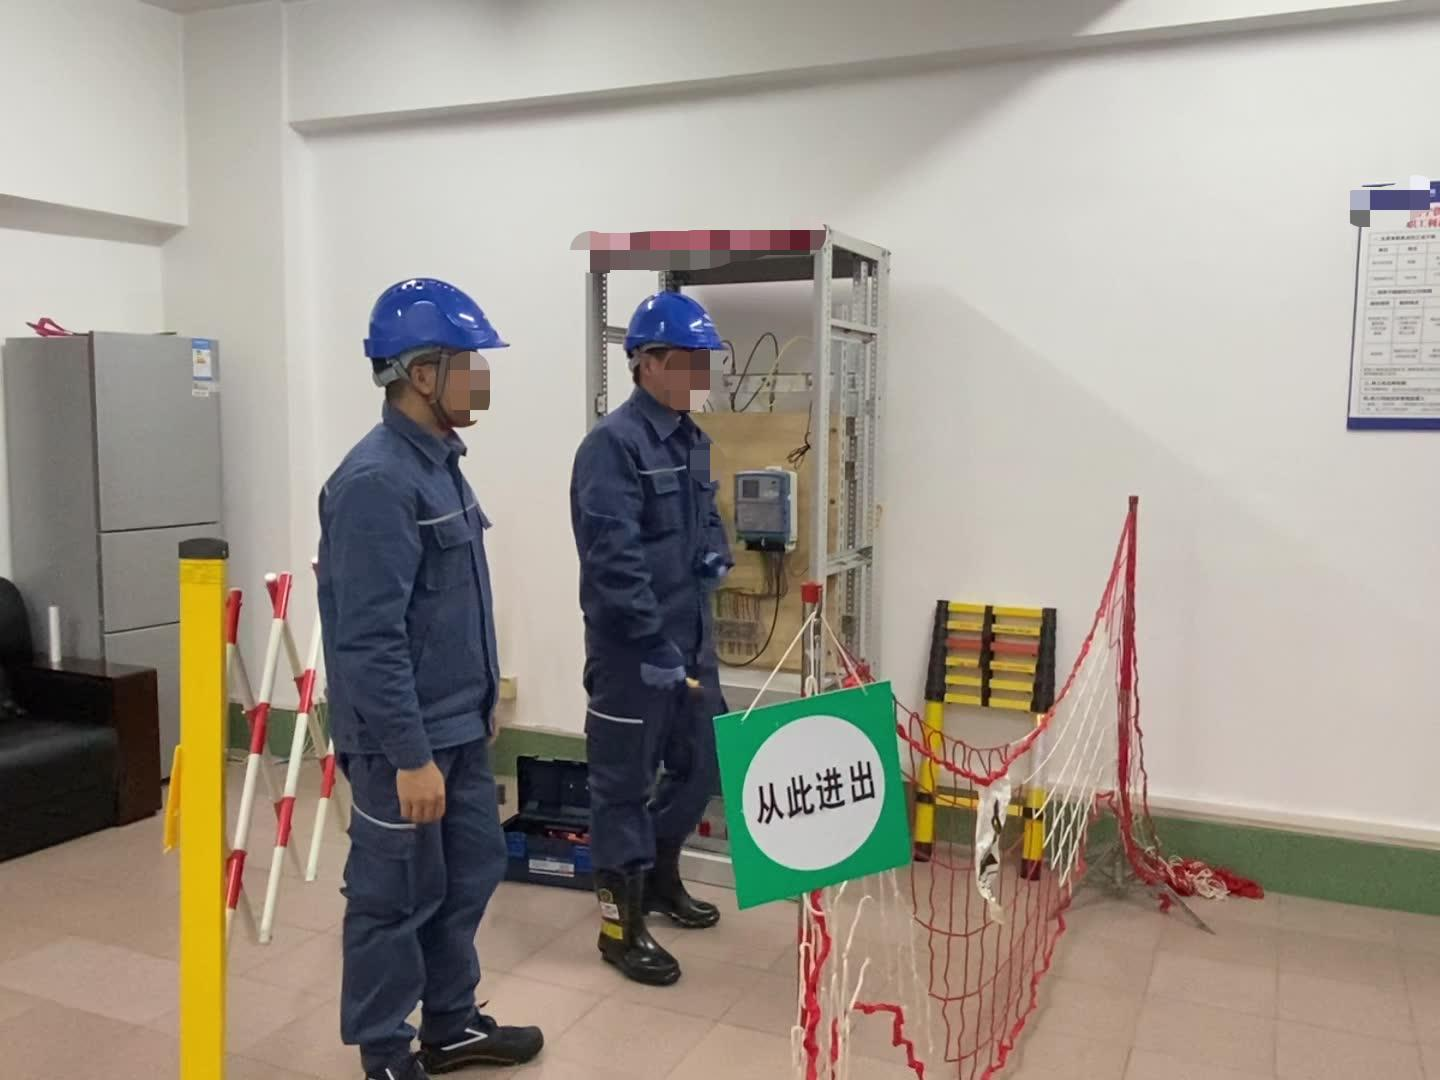halt: (362, 279, 510, 434), (624, 294, 731, 410)
inear: (393, 352, 457, 413)
noear: (633, 351, 674, 390)
